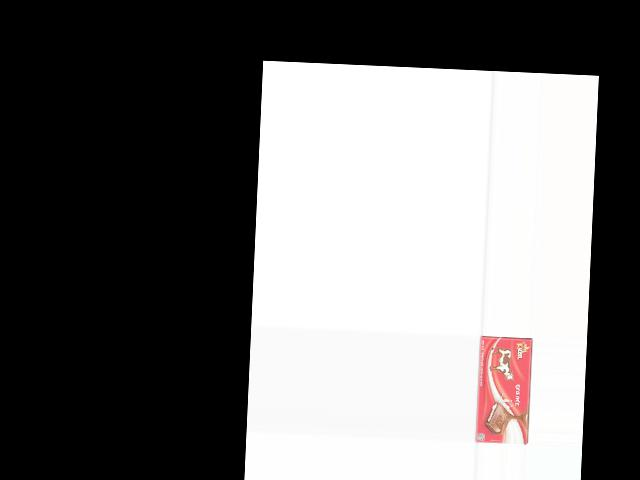chocolate: (474, 333, 532, 444)
